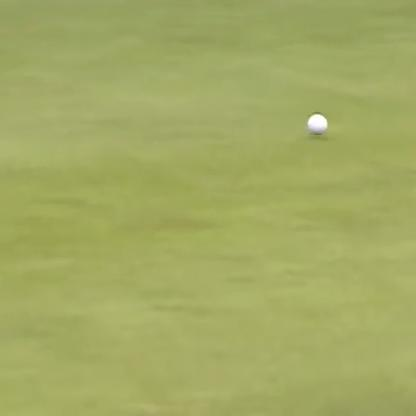golfball: (304, 110, 326, 132)
